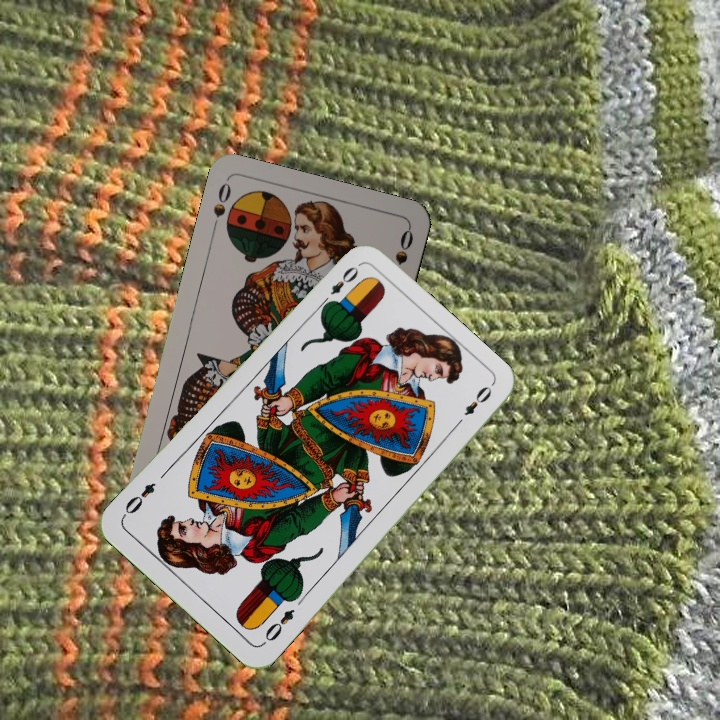EO: (316, 262, 362, 310), (258, 604, 297, 648)
SO: (208, 178, 234, 235)
